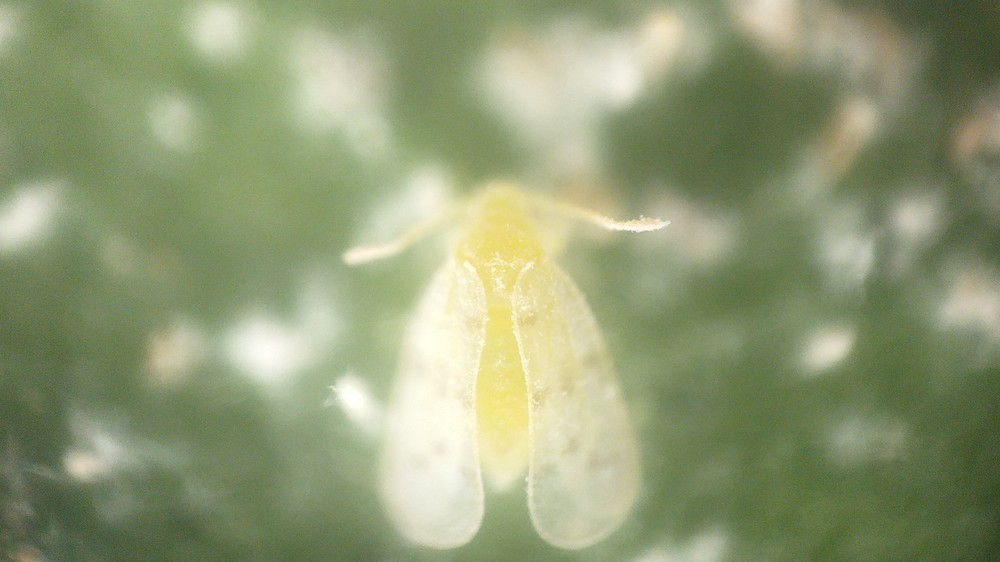Mosca Blanca: (313, 155, 700, 560)
